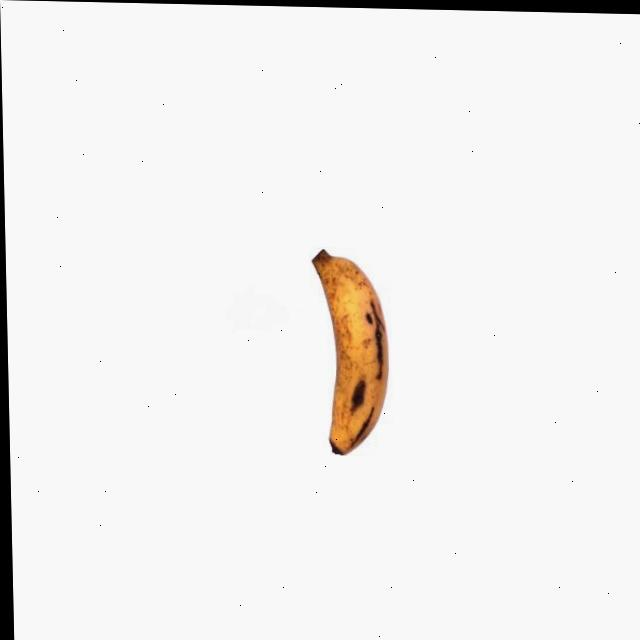banana: (309, 245, 394, 461)
